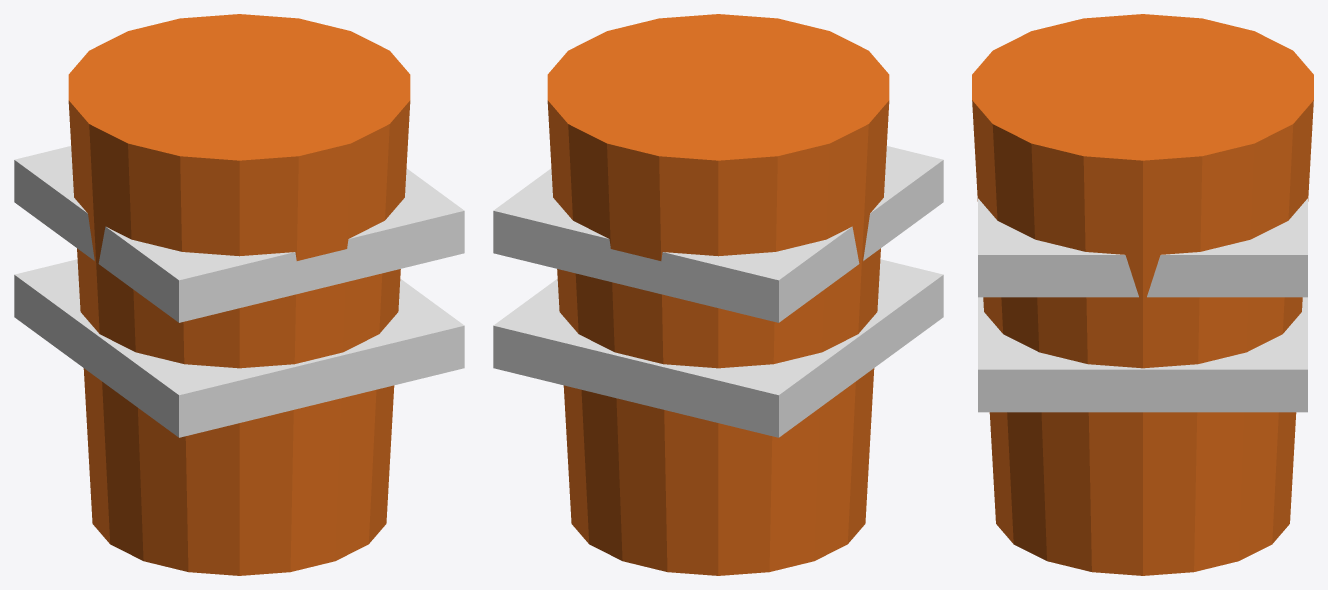
File: construction_barrel.dae
The picture shows the model from 3 angles, left to right: view 1: azimuth 30°, elevation 25°; view 2: azimuth 150°, elevation 25°; view 3: azimuth 270°, elevation 25°; orthographic projection.
Parts seen in each view (by area): view 1: barrel, stripe_mid, stripe_top; view 2: barrel, stripe_mid, stripe_top; view 3: barrel, stripe_mid, stripe_top.
Boxes of the visible parts, x1,y1,x2,y2 form: barrel: [68, 14, 410, 575]; stripe_mid: [14, 259, 464, 437]; stripe_top: [14, 146, 464, 322]; barrel: [547, 14, 889, 575]; stripe_mid: [493, 259, 943, 437]; stripe_top: [493, 146, 943, 322]; barrel: [972, 14, 1313, 575]; stripe_mid: [978, 297, 1307, 412]; stripe_top: [978, 198, 1307, 297].
Bounding box in the file's own units: 0.68 × 0.6697 × 0.92.
